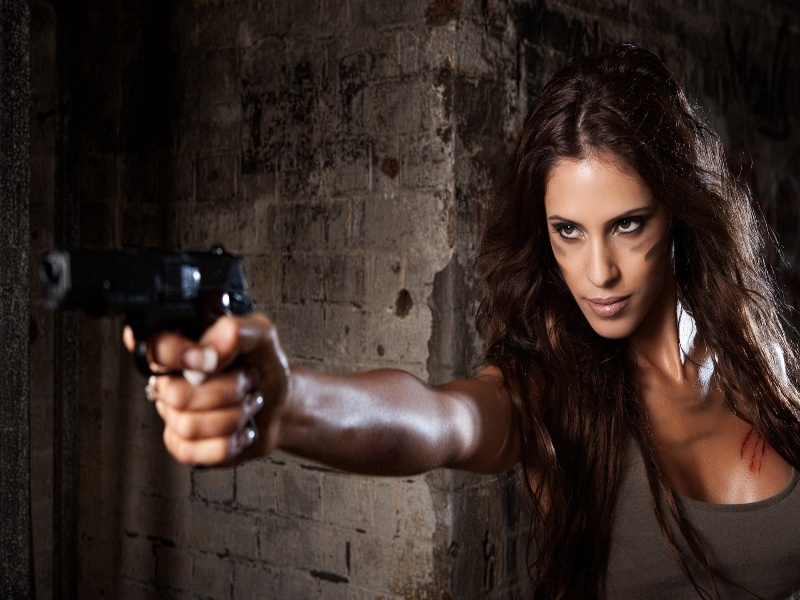gun: (36, 239, 271, 431)
